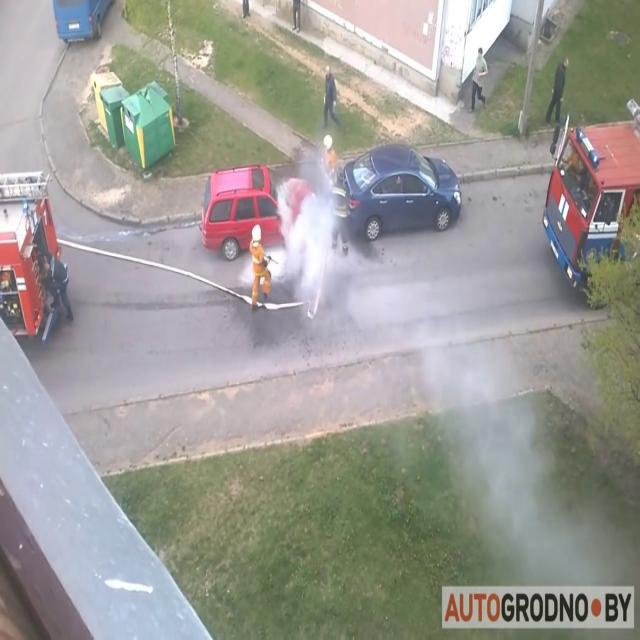Smoke: (363, 205, 584, 564), (268, 146, 352, 314)
